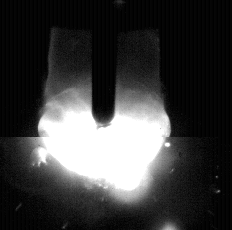arame: (93, 0, 117, 127)
poca: (37, 0, 172, 230)
